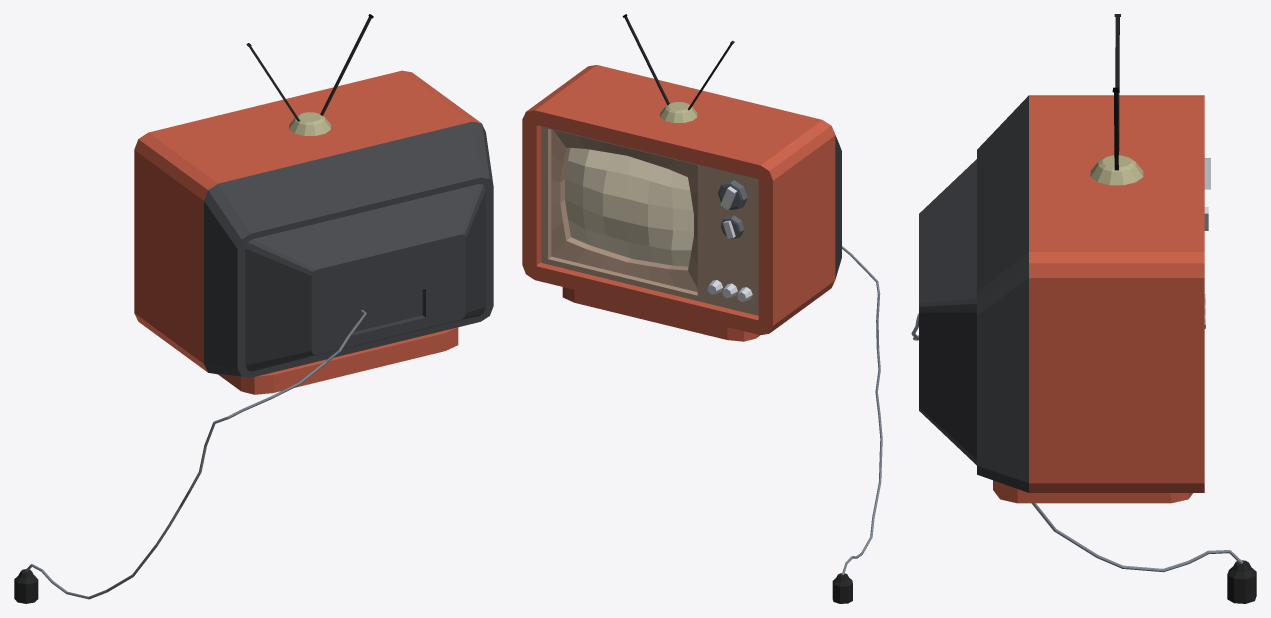
File: TV_with_cord.fbx
3 renders of one model, left to right at view 1: azimuth 30°, elevation 25°; view 2: azimuth 150°, elevation 25°; view 3: azimuth 270°, elevation 25°, orthographic. The views are drawn at different scales.
Parts seen in each view (by area): view 1: TV, Cord.001; view 2: TV, Screen, Cord.001, Dial; view 3: TV, Cord.001.
Part boxes in pixels (x1,y1,x2,y2): TV: [134, 14, 493, 394]; Cord.001: [14, 310, 366, 603]; TV: [522, 14, 841, 341]; Screen: [565, 148, 693, 266]; Cord.001: [832, 246, 882, 603]; Dial: [718, 180, 747, 210]; TV: [919, 14, 1204, 503]; Cord.001: [911, 313, 1256, 603].
Size of the model in its own units: 2.17 by 1.34 by 2.96.
